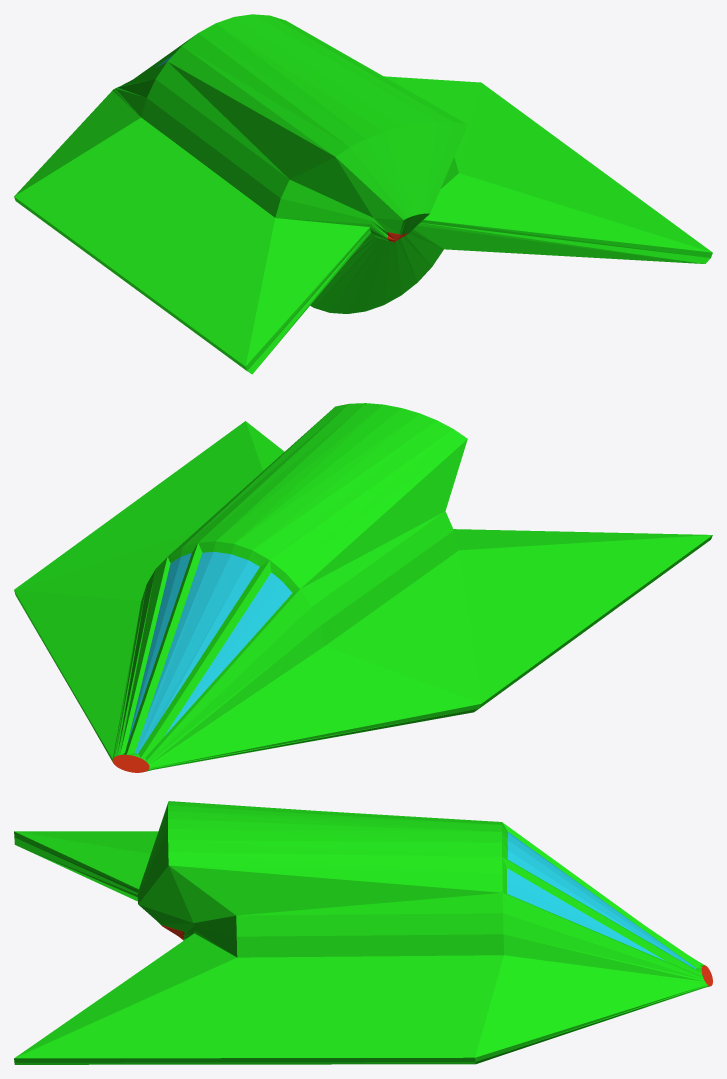
Rendered from EnemyTrian.fbx.
3 renders of one model, top to bottom at view 1: azimuth 30°, elevation 25°; view 2: azimuth 150°, elevation 25°; view 3: azimuth 270°, elevation 25°, orthographic.
Visible parts, largest first — view 1: Cylinder; view 2: Cylinder; view 3: Cylinder.
Part boxes in pixels (x1,y1,x2,y2): Cylinder: (14, 14, 712, 374); Cylinder: (14, 403, 712, 772); Cylinder: (14, 801, 712, 1064).
Bounding box in the file's own units: 499 × 216 × 649.
